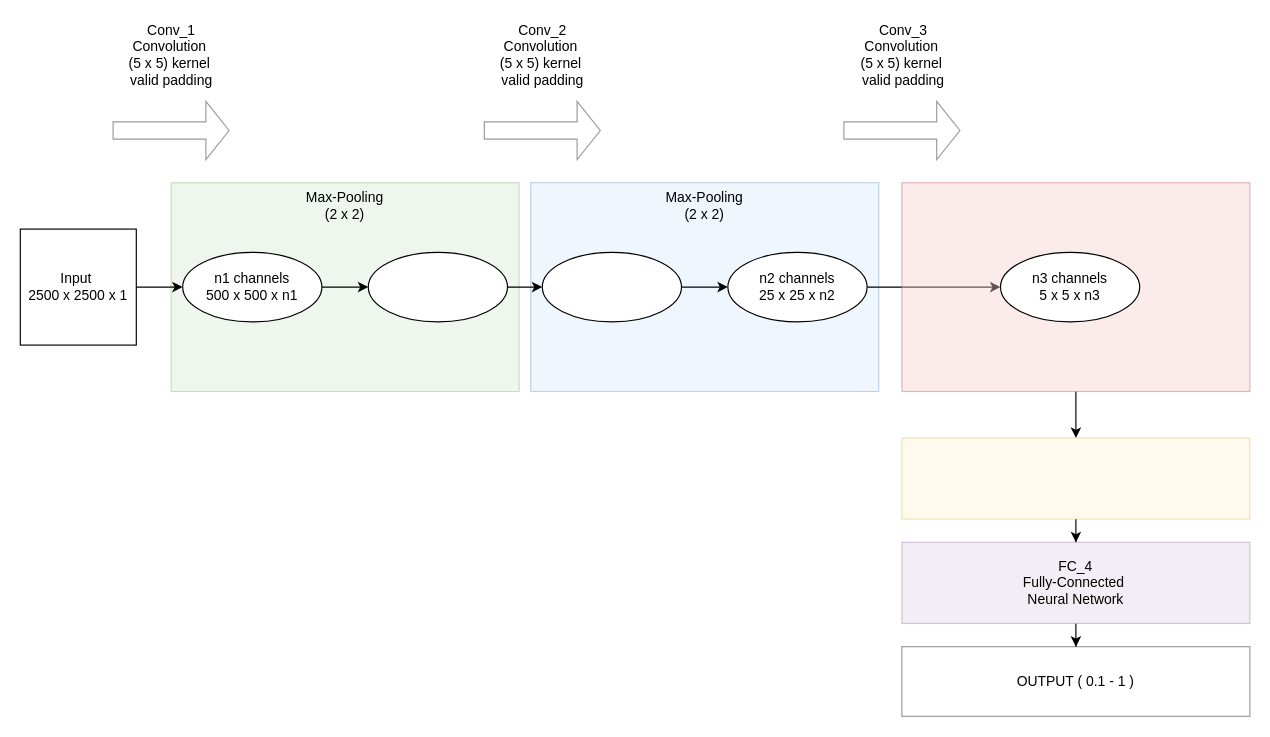
This 1270x737 diagram has some shape labels left out. The centre of each missing label's shape, as x and y in pixels:
"FC_3 Neural Network - ReLU activation Flattening of n2 channels (75 x 1)" belongs at [1075,478].
"n1 channels 250 x 250 x n1" belongs at [437,286].
"n2 channels 50 x 50 x n2" belongs at [611,286].
